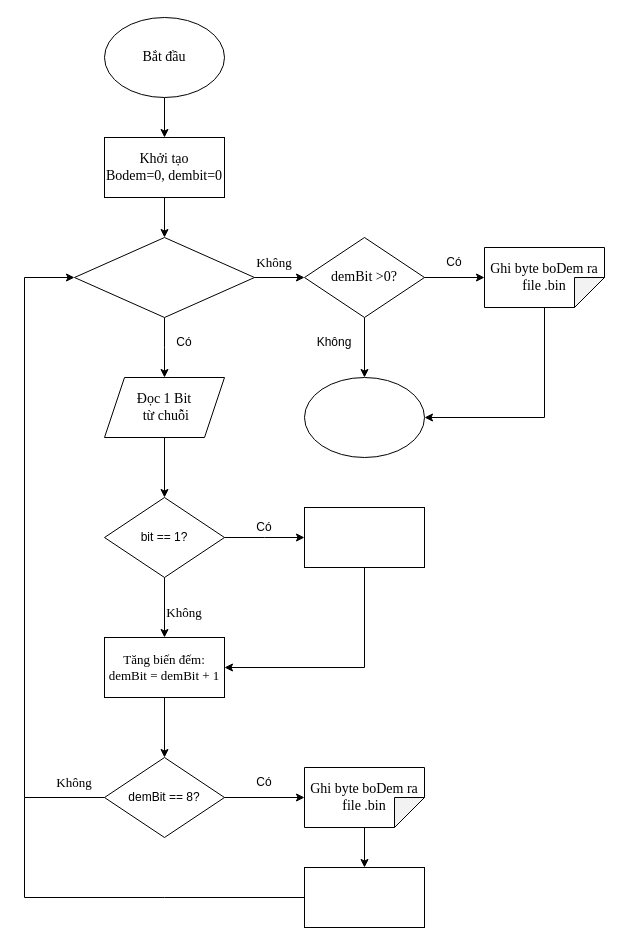
Image size: 622x945. Some labels were removed from this diagram. The centre of each missing label's shape, as x and y in pixels:
boDem = boDem | (1 << (7 - demBit)): (364,537)
Còn Bit trong chuỗi Quadtree không?: (164,277)
Kết thúc: (364,417)
Reset boDem = 0, demBit = 0: (364,897)
